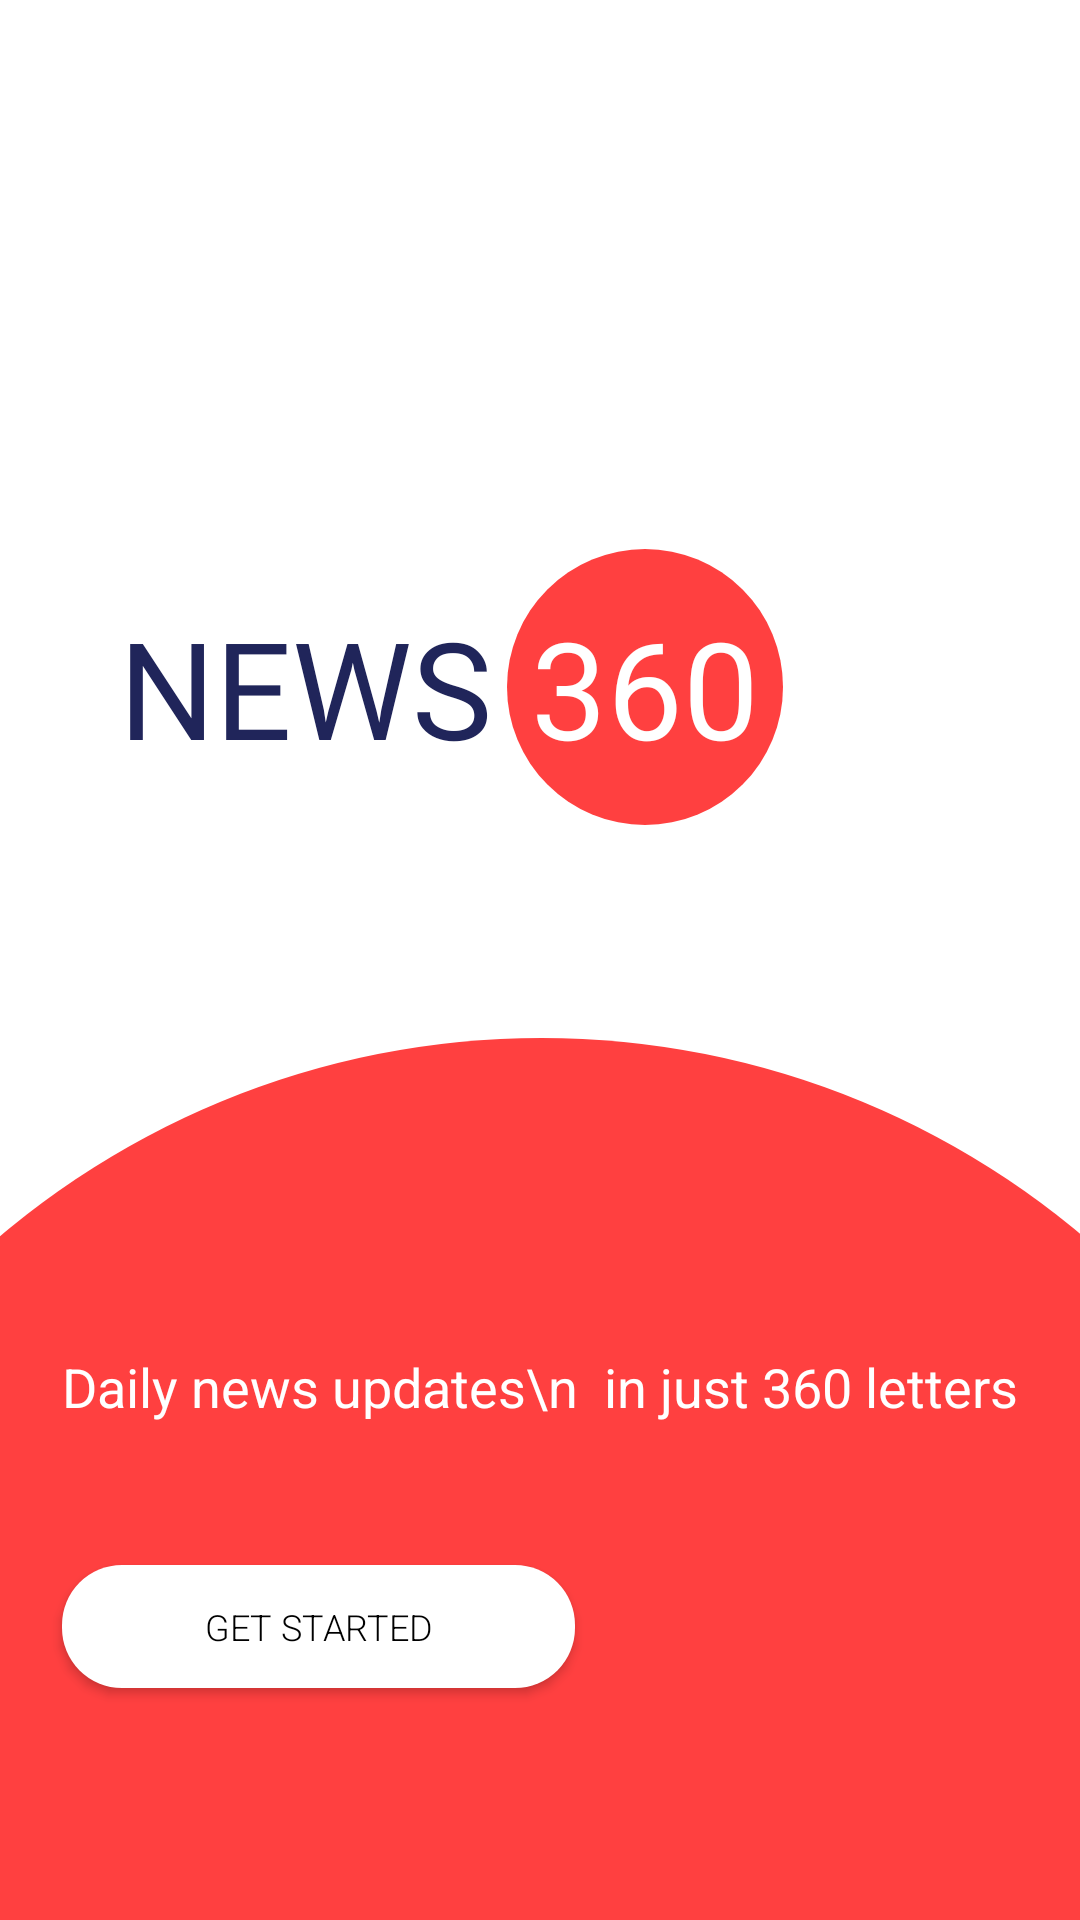

Where icons sit on this 1080*1920 app screen, as (x1, y1, x2, y2):
smallcircle: (507, 549, 783, 825)
